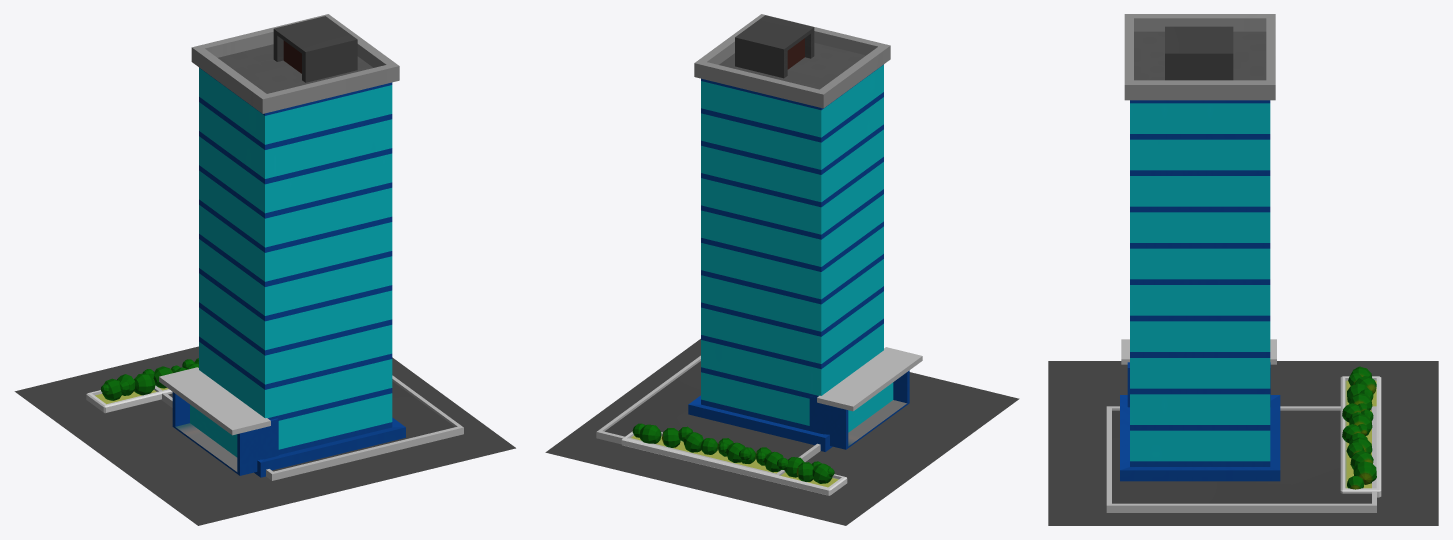
File: skyscraper3.gltf
3 views of the same model, side by side, from view 1: azimuth 30°, elevation 25°; view 2: azimuth 150°, elevation 25°; view 3: azimuth 270°, elevation 25° (orthographic). The views are drawn at different scales.
Visible parts, largest first — view 1: Skyscraper.001, Plane.001, Floor_3.001, Bushes_3_8.001, Bed_9.001; view 2: Skyscraper.001, Plane.001, Floor_3.001, Bushes_3_8.001, Bed_9.001; view 3: Skyscraper.001, Plane.001, Floor_3.001, Bushes_3_8.001, Bed_9.001.
Part boxes in pixels (x1,y1,x2,y2): Skyscraper.001: [159, 14, 405, 477]; Plane.001: [14, 346, 515, 525]; Floor_3.001: [154, 375, 463, 480]; Bushes_3_8.001: [101, 358, 198, 400]; Bed_9.001: [86, 387, 172, 413]; Skyscraper.001: [688, 14, 922, 451]; Plane.001: [545, 339, 1019, 525]; Floor_3.001: [596, 355, 820, 475]; Bushes_3_8.001: [632, 423, 834, 483]; Bed_9.001: [621, 431, 847, 495]; Skyscraper.001: [1120, 14, 1280, 481]; Plane.001: [1048, 361, 1438, 525]; Floor_3.001: [1106, 406, 1376, 512]; Bushes_3_8.001: [1342, 366, 1376, 489]; Bed_9.001: [1340, 376, 1381, 497].
Size of the model in its own units: 20 by 23.99 by 20.
2 materials, 1 textured.
